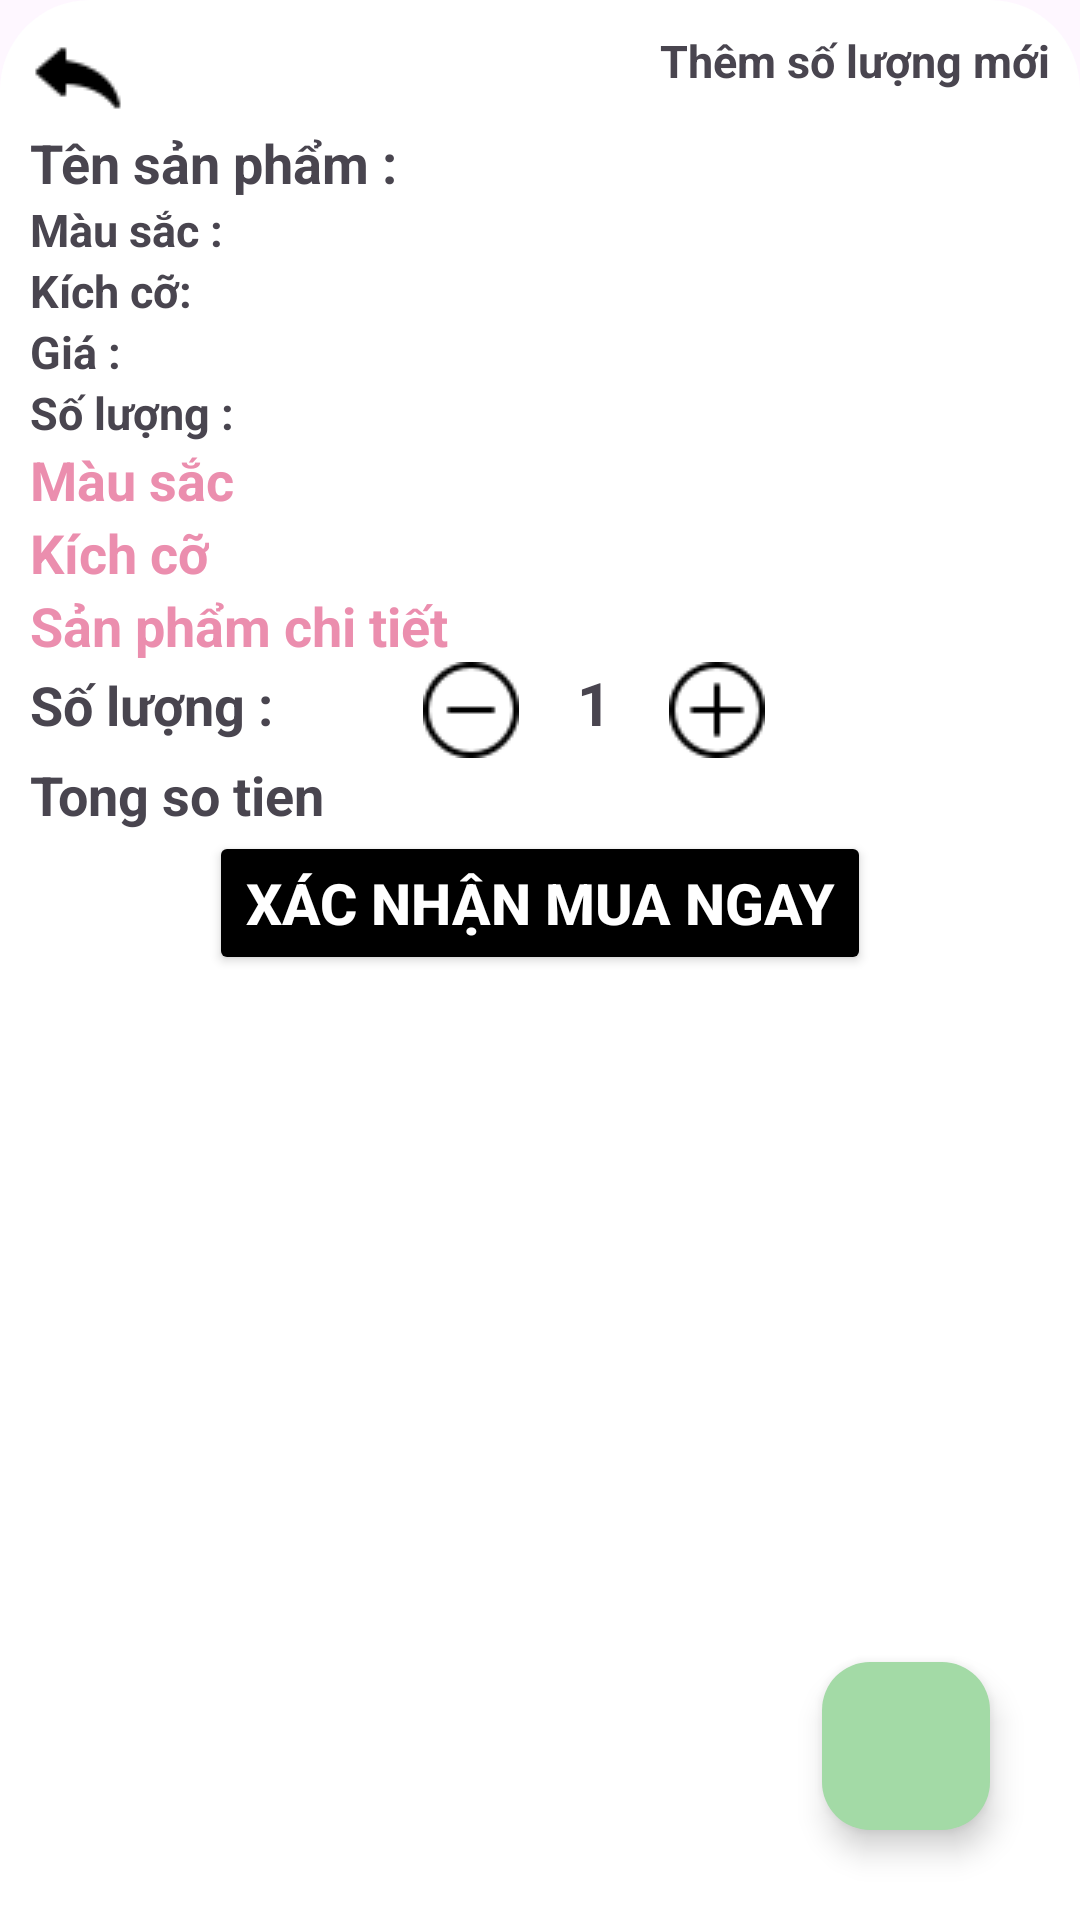

Where icons sit on this 1080px×1920px app screen, as (x1, y1, x2, y2):
back: (35, 47, 121, 109)
minus: (423, 662, 519, 758)
plus: (669, 662, 765, 758)
